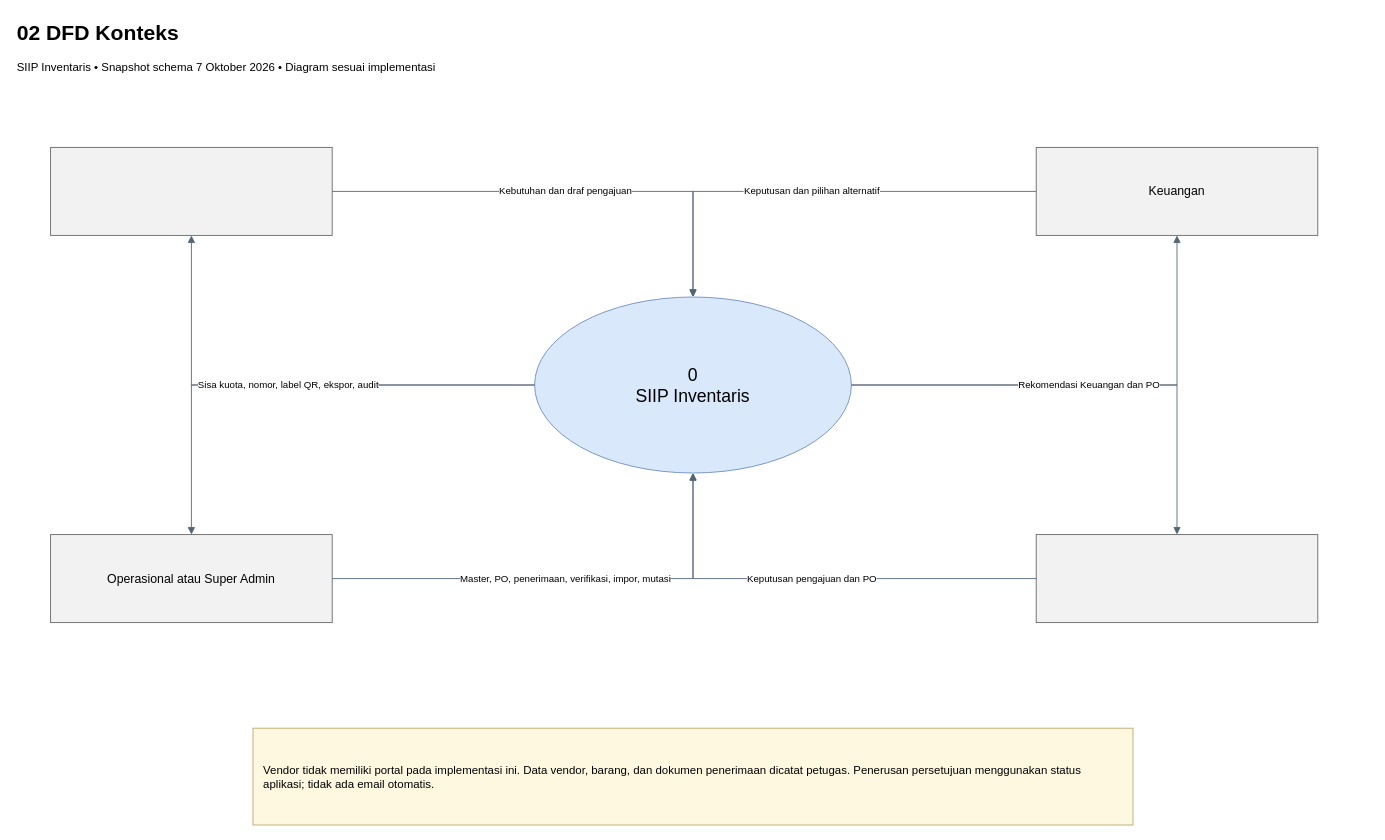
The diagram is 1385 pixels wide and 840 high, and some of its shapes have lost their labels. The shapes that lost their labels are listed below. From the top down, each one's centre as x and y in pixels, then its label:
At point 191,191: "Pengaju atau Pengguna".
At point 1176,578: "Direksi".
